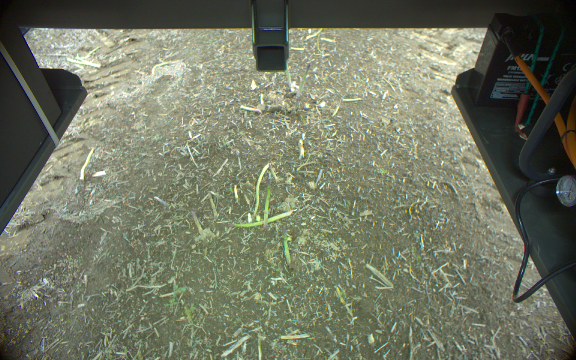aspa: (252, 161, 271, 221), (228, 209, 299, 225), (281, 224, 293, 267), (263, 177, 272, 229), (188, 208, 203, 239)
